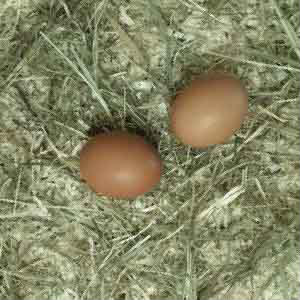egg: (171, 74, 248, 148), (79, 132, 161, 197)
